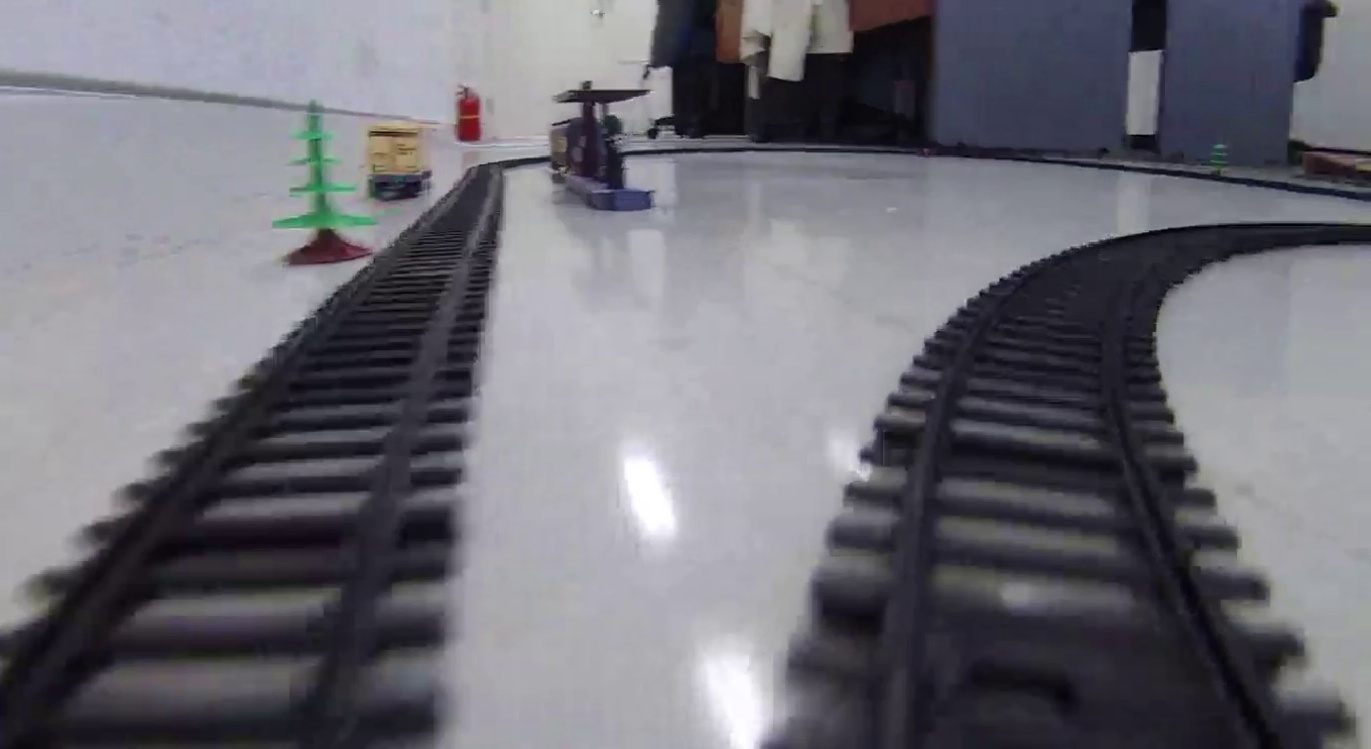tree: (272, 101, 371, 263)
